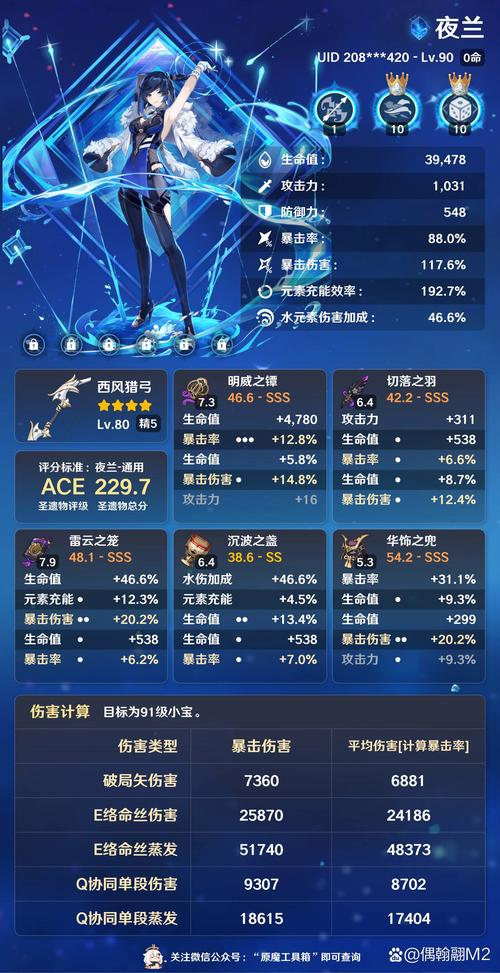夜兰: (79, 52, 242, 338)
